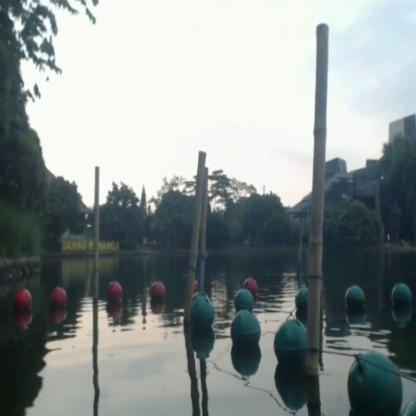green_buoy: (347, 350, 403, 414), (228, 308, 260, 352), (278, 323, 306, 360), (392, 280, 412, 313), (193, 297, 213, 329), (345, 284, 365, 314), (234, 290, 254, 309), (296, 289, 309, 316)
red_buoy: (14, 287, 32, 314), (52, 284, 67, 312), (150, 279, 166, 305), (107, 282, 122, 306), (242, 274, 258, 290)
